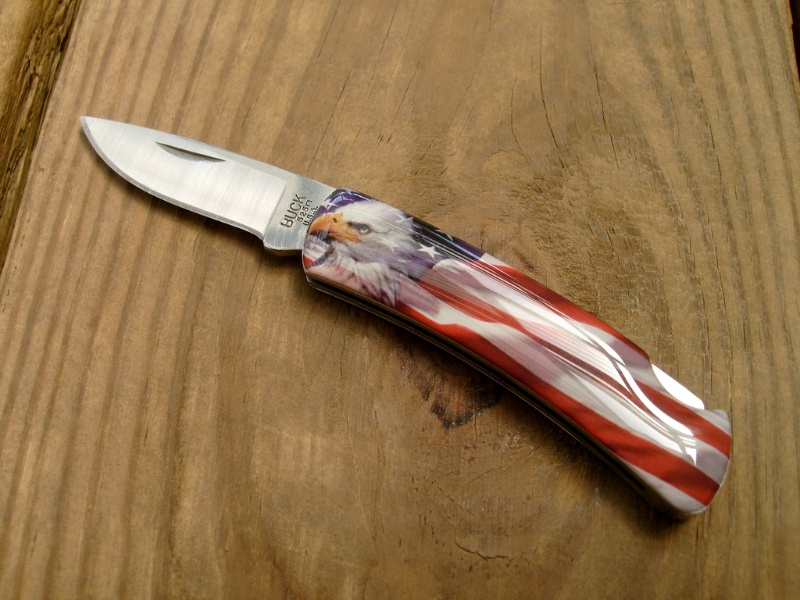knife: (75, 111, 737, 524)
